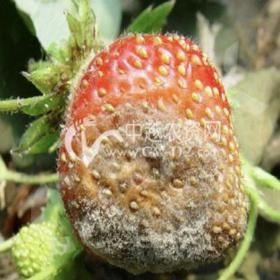Gray Mold: (57, 32, 252, 274)
